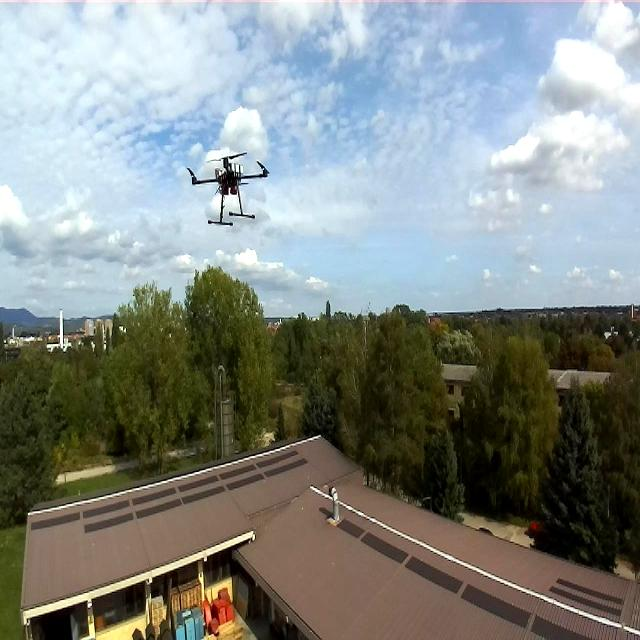drone: (188, 146, 270, 228)
